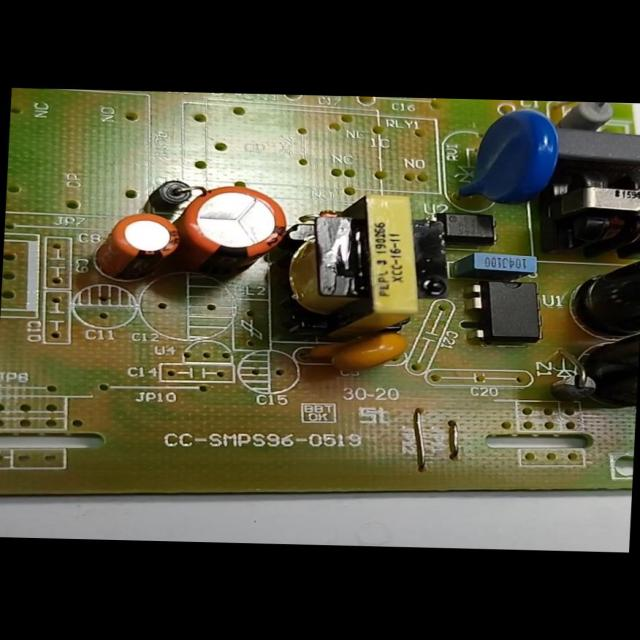Cap1: (176, 184, 287, 285)
Cap2: (94, 212, 181, 277)
Cap3: (576, 315, 640, 409)
Cap4: (568, 245, 639, 325)
MOSFET: (470, 279, 547, 343)
Mov: (458, 105, 561, 210)
Resistor: (561, 102, 617, 130)
Transformer: (283, 190, 447, 337), (559, 172, 639, 240)
